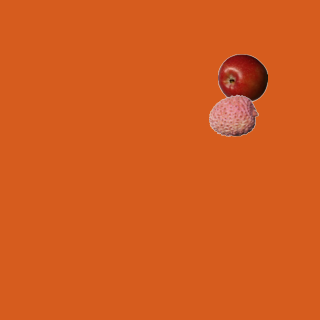Apple Braeburn: (217, 53, 267, 103)
Lychee: (208, 90, 258, 140)
